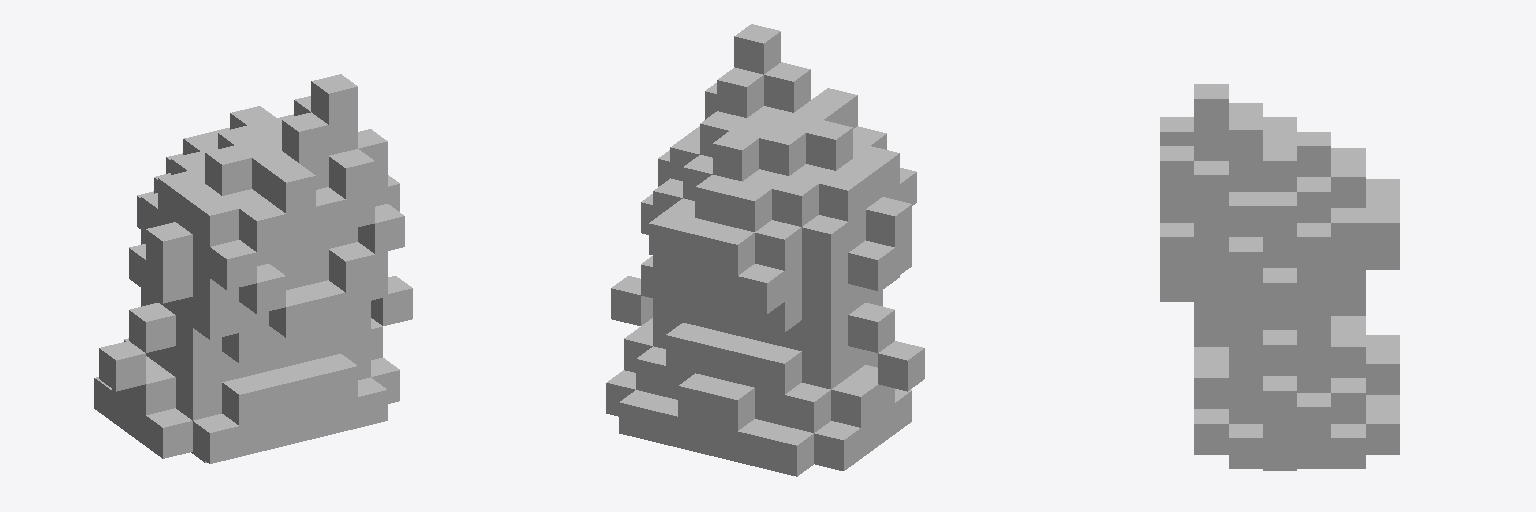
Rendered from mage3.obj.
3 views of the same model, side by side, from view 1: azimuth 30°, elevation 25°; view 2: azimuth 150°, elevation 25°; view 3: azimuth 270°, elevation 25° (orthographic).
Parts seen in each view (by area): view 1: object 1; view 2: object 1; view 3: object 1.
Boxes of the visible parts, x1,y1,x2,y2 form: object 1: [94, 74, 412, 463]; object 1: [606, 24, 924, 476]; object 1: [1160, 84, 1399, 470].
Bounding box in the file's own units: 1 × 1.2 × 0.7.